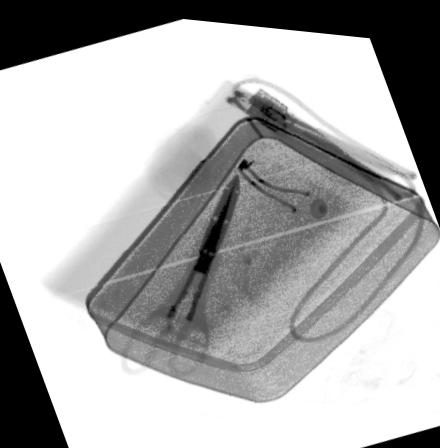Scissors: (120, 167, 240, 372)
